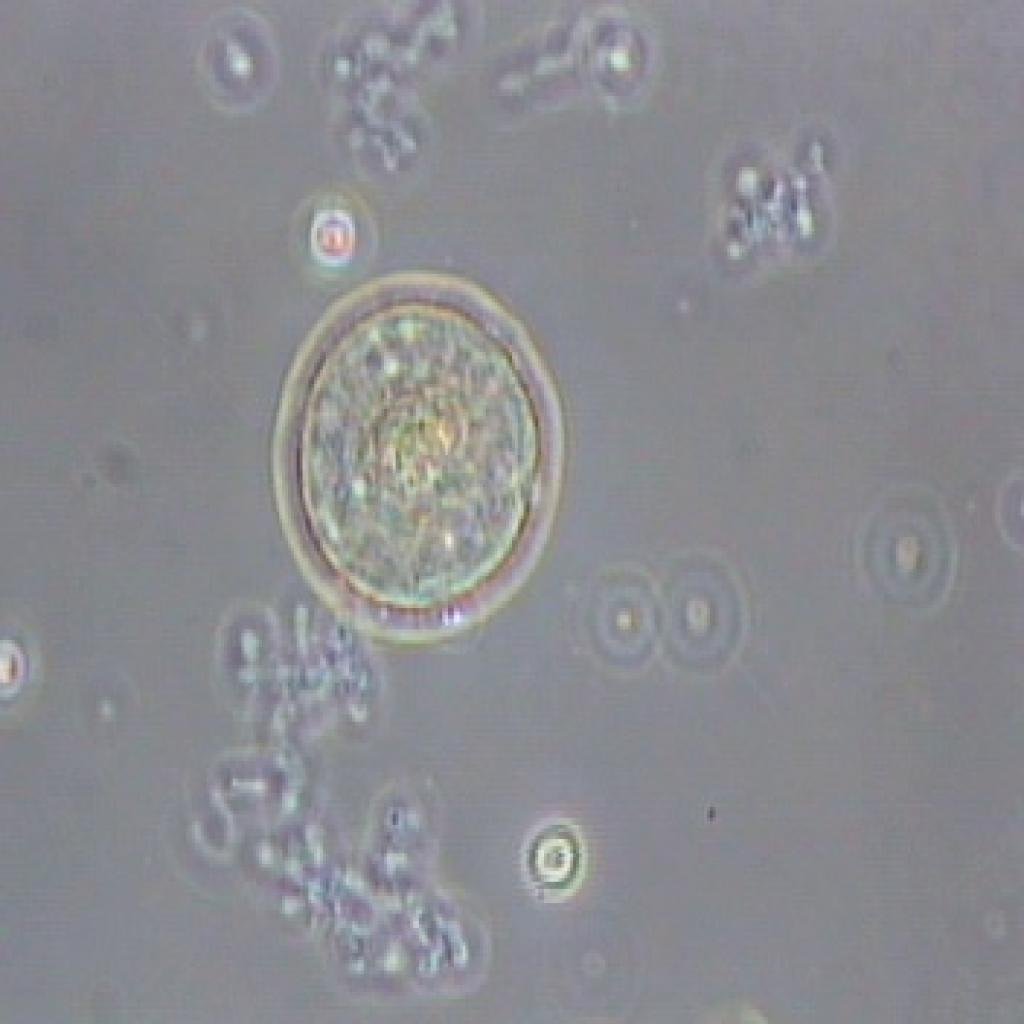Arcella: (253, 263, 579, 654)
